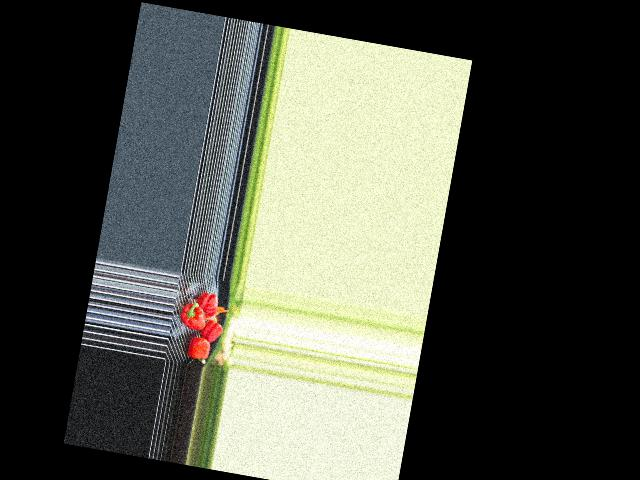bell_pepper: (195, 290, 220, 319)
